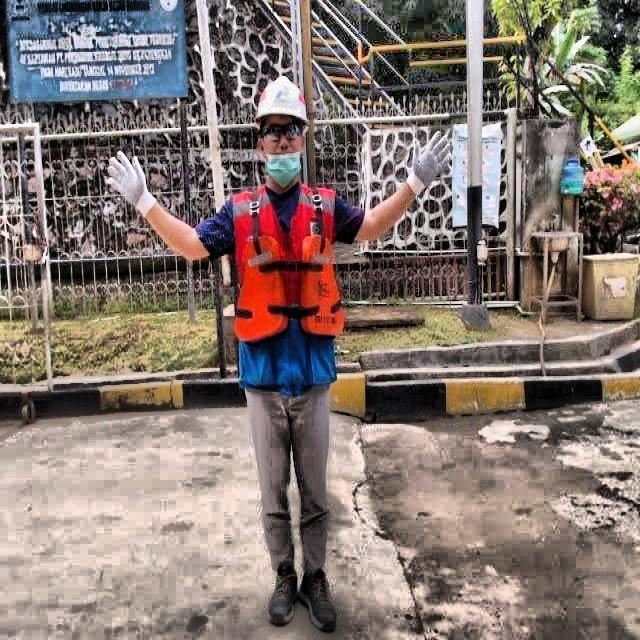safety_helmet: (256, 77, 309, 122)
safety_jacket: (232, 182, 346, 386)
